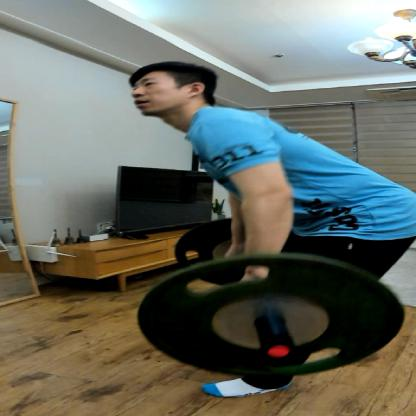Barbell: (127, 252, 403, 384)
